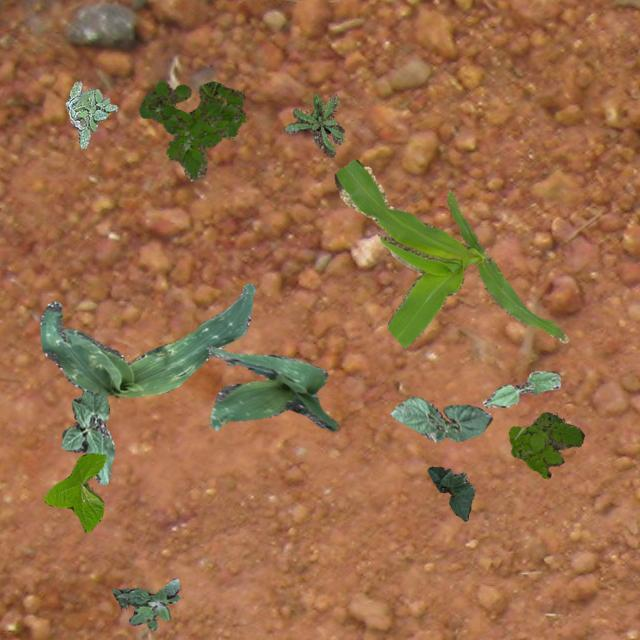crop: (333, 158, 568, 346), (38, 282, 255, 396), (208, 346, 338, 430), (60, 388, 114, 484), (42, 452, 104, 532), (390, 396, 490, 442), (482, 369, 560, 406), (426, 466, 474, 520)
weed: (138, 78, 245, 180), (508, 412, 584, 478), (284, 92, 344, 156), (65, 80, 116, 148), (112, 576, 178, 628)
